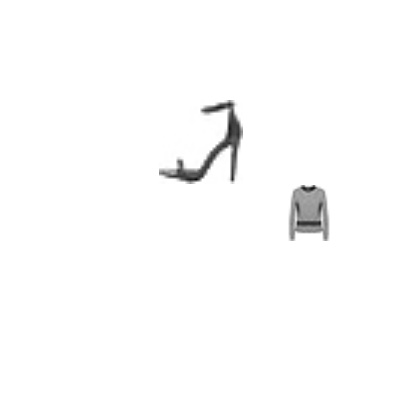Pullover: (281, 185, 337, 241)
Sandal: (159, 100, 243, 184)
